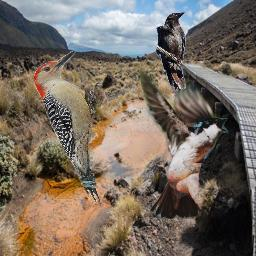Crow: (156, 11, 186, 90)
Swallow: (134, 62, 229, 219)
Woodpecker: (34, 49, 101, 205)
